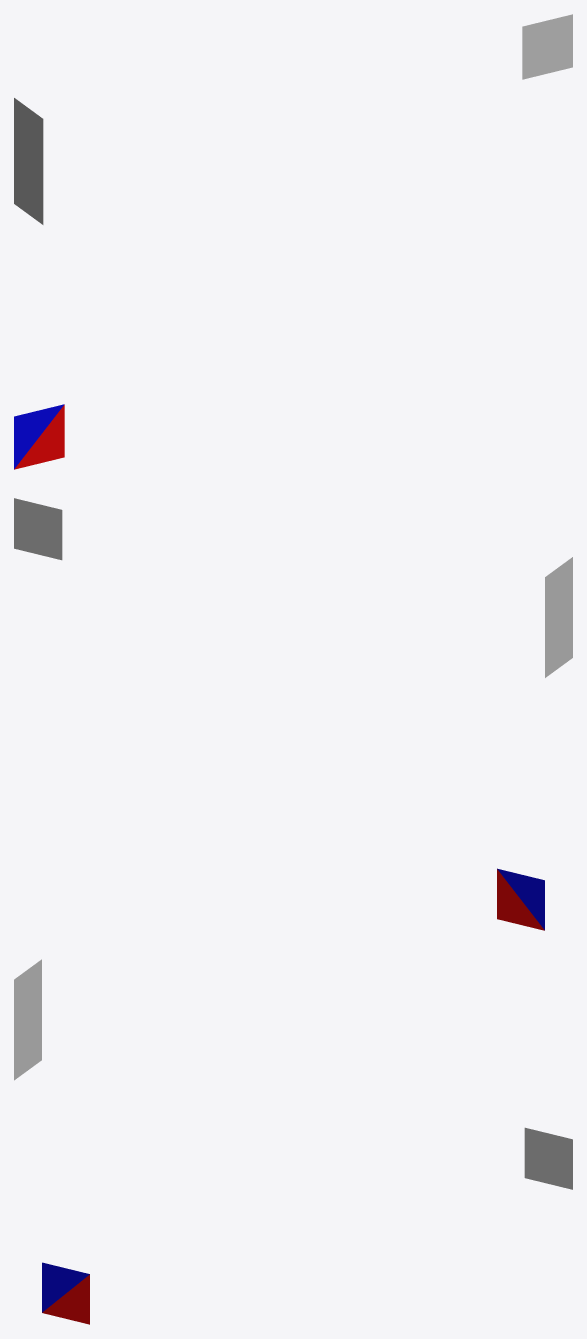
File: shared.gltf
3 renders of one model, top to bottom at view 1: azimuth 30°, elevation 25°; view 2: azimuth 150°, elevation 25°; view 3: azimuth 330°, elevation 25°, orthographic. The views are drawn at different scales.
Visible parts, largest first — view 1: NegativeScale, Translated, SplitNode; view 2: NegativeScale, Translated, SplitNode; view 3: NegativeScale, Translated, SplitNode.
Part boxes in pixels (x1,y1,x2,y2): NegativeScale: (14, 98, 43, 224); Translated: (522, 14, 572, 79); SplitNode: (14, 404, 64, 469); NegativeScale: (545, 557, 572, 677); Translated: (14, 498, 62, 560); SplitNode: (497, 868, 544, 930); NegativeScale: (14, 959, 41, 1080); Translated: (524, 1127, 572, 1189); SplitNode: (42, 1262, 89, 1324).
Bounding box in the file's own units: 11 × 7 × 1.
